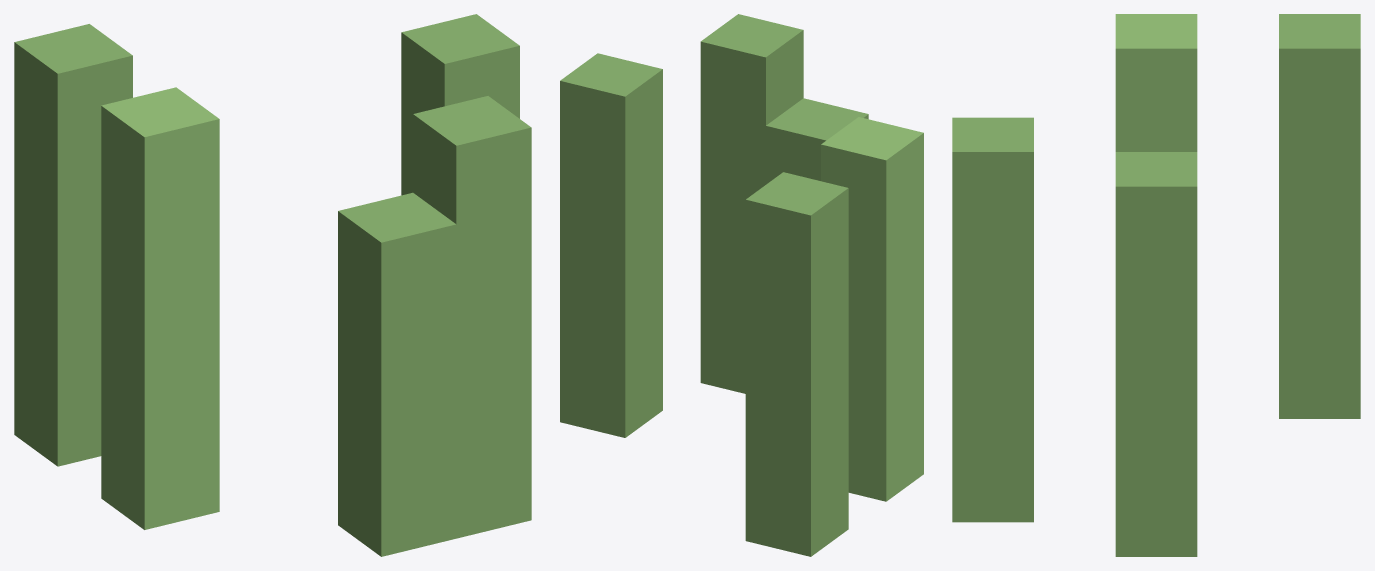
The model's file is hierba_corta_01.glb.
The picture shows the model from 3 angles, left to right: view 1: azimuth 30°, elevation 25°; view 2: azimuth 150°, elevation 25°; view 3: azimuth 270°, elevation 25°; orthographic projection. The views are drawn at different scales.
Parts seen in each view (by area): view 1: hierba_corta_01; view 2: hierba_corta_01; view 3: hierba_corta_01.
Part boxes in pixels (x1,y1,x2,y2): hierba_corta_01: (14, 14, 531, 556); hierba_corta_01: (560, 14, 923, 556); hierba_corta_01: (952, 14, 1360, 556).
Bounding box in the file's own units: 0.5 × 0.5 × 0.5.
